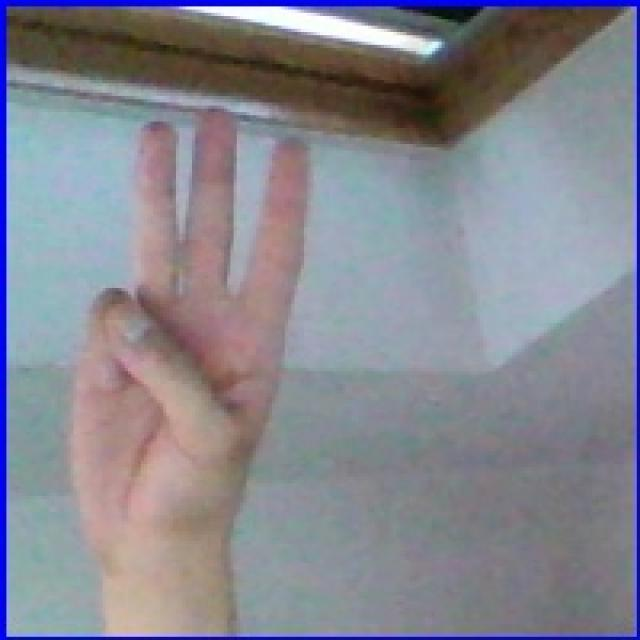Letra-W: (47, 84, 335, 563)
